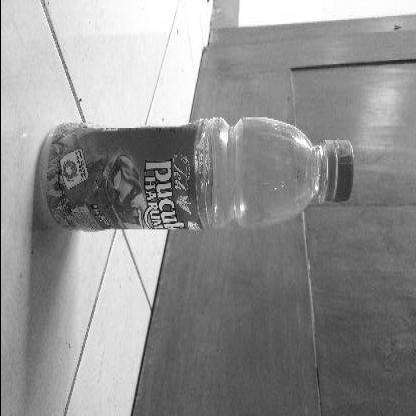plastic_bottles: (36, 113, 356, 240)
